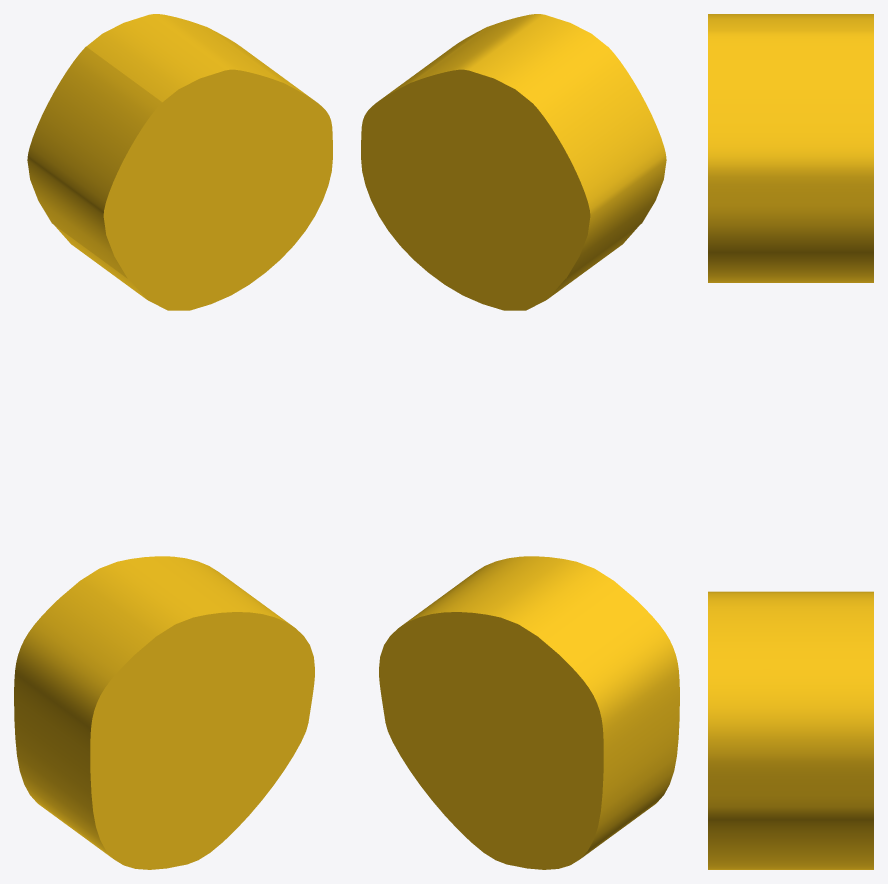
Rendered from isto.fbx.
3 renders of one model, left to right at view 1: azimuth 30°, elevation 25°; view 2: azimuth 150°, elevation 25°; view 3: azimuth 270°, elevation 25°, orthographic. The views are drawn at different scales.
Visible parts, largest first — view 1: node_id237; view 2: node_id237; view 3: node_id237.
Part boxes in pixels (x1,y1,x2,y2): node_id237: (14, 14, 332, 869); node_id237: (361, 14, 679, 869); node_id237: (708, 14, 873, 869).
Size of the model in its own units: 0.0345 by 0.1066 by 0.0188.
1 material, 1 textured.
